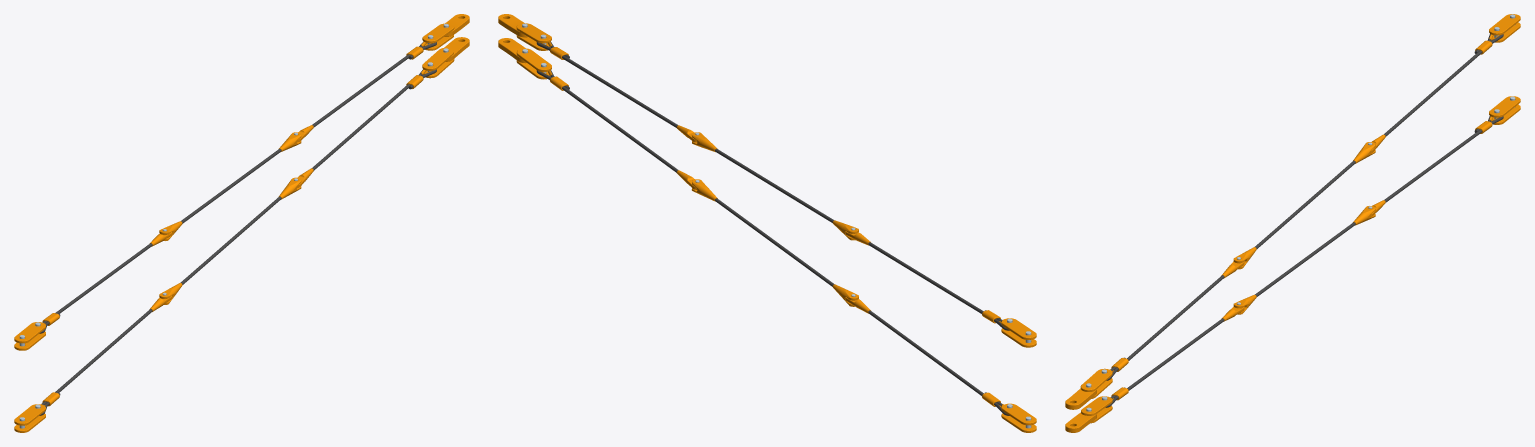
File: rear_connector.obj
3 renders of one model, left to right at view 1: azimuth 90°, elevation 25°; view 2: azimuth 150°, elevation 25°; view 3: azimuth 270°, elevation 25°, orthographic. The views are drawn at different scales.
Visible parts, largest first — view 1: rear cable_4-2, rear cable_3-2, rear cable_2-2, rear cable-2, cable conector-3, cable conector_2-3; view 2: rear cable_4-2, rear cable_2-2, rear cable_3-2, rear cable-2, cable conector-3, cable conector_2-3; view 3: rear cable-2, rear cable_3-2, rear cable_2-2, rear cable_4-2, cable conector_2-3, cable conector-3.
Part boxes in pixels (left/top/right/bottom): rear cable_4-2: left=312, top=69, right=436, bottom=170; rear cable_3-2: left=312, top=41, right=436, bottom=127; rear cable_2-2: left=39, top=309, right=152, bottom=415; rear cable-2: left=39, top=243, right=152, bottom=333; cable conector-3: left=180, top=196, right=281, bottom=284; cable conector_2-3: left=181, top=149, right=281, bottom=223; rear cable_4-2: left=536, top=70, right=678, bottom=172; rear cable_2-2: left=868, top=310, right=1009, bottom=415; rear cable_3-2: left=536, top=41, right=677, bottom=127; rear cable-2: left=868, top=242, right=1009, bottom=330; cable conector-3: left=715, top=198, right=834, bottom=286; cable conector_2-3: left=715, top=148, right=834, bottom=222; rear cable-2: left=1384, top=34, right=1503, bottom=136; rear cable_3-2: left=1106, top=275, right=1224, bottom=380; rear cable_2-2: left=1384, top=116, right=1503, bottom=202; rear cable_4-2: left=1106, top=318, right=1224, bottom=407; cable conector_2-3: left=1255, top=160, right=1355, bottom=248; cable conector-3: left=1255, top=222, right=1355, bottom=296.
Bounding box in the file's own units: 12655 × 1570 × 6779.
